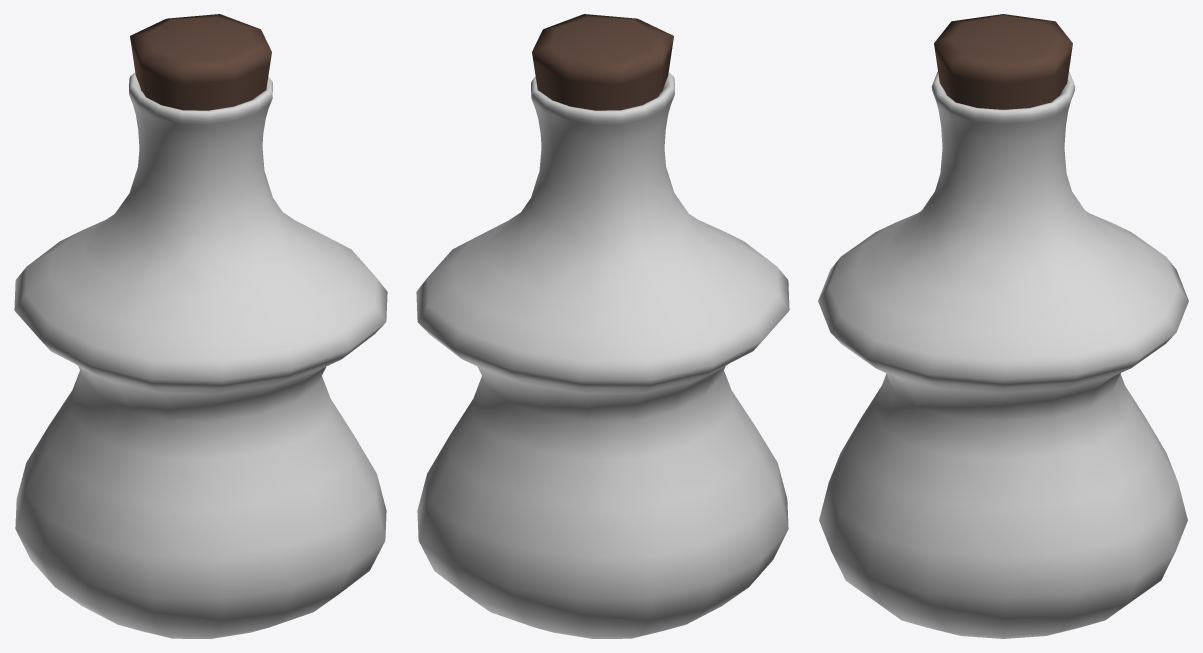
Rendered from potion5-filled.glb.
The picture shows the model from 3 angles, left to right: view 1: azimuth 30°, elevation 25°; view 2: azimuth 150°, elevation 25°; view 3: azimuth 270°, elevation 25°; orthographic projection.
Visible parts, largest first — view 1: Potion5_Filled_Cube.062; view 2: Potion5_Filled_Cube.062; view 3: Potion5_Filled_Cube.062.
Boxes of the visible parts, x1,y1,x2,y2 form: Potion5_Filled_Cube.062: (14, 14, 387, 638); Potion5_Filled_Cube.062: (416, 14, 789, 638); Potion5_Filled_Cube.062: (818, 14, 1188, 638).
Bounding box in the file's own units: 0.7081 × 1.23 × 0.7081.
